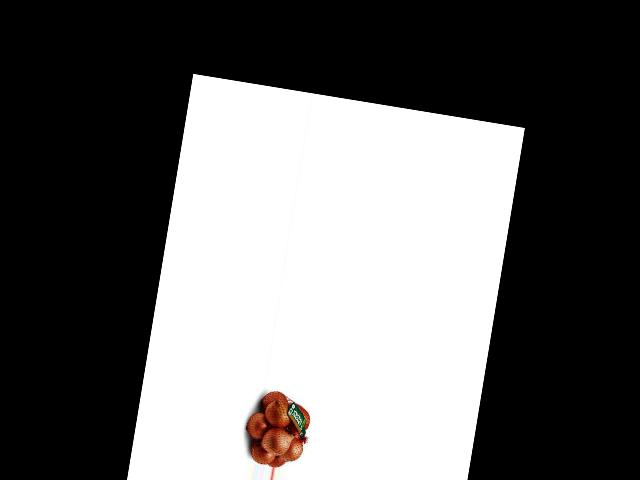onion: (258, 387, 287, 416)
